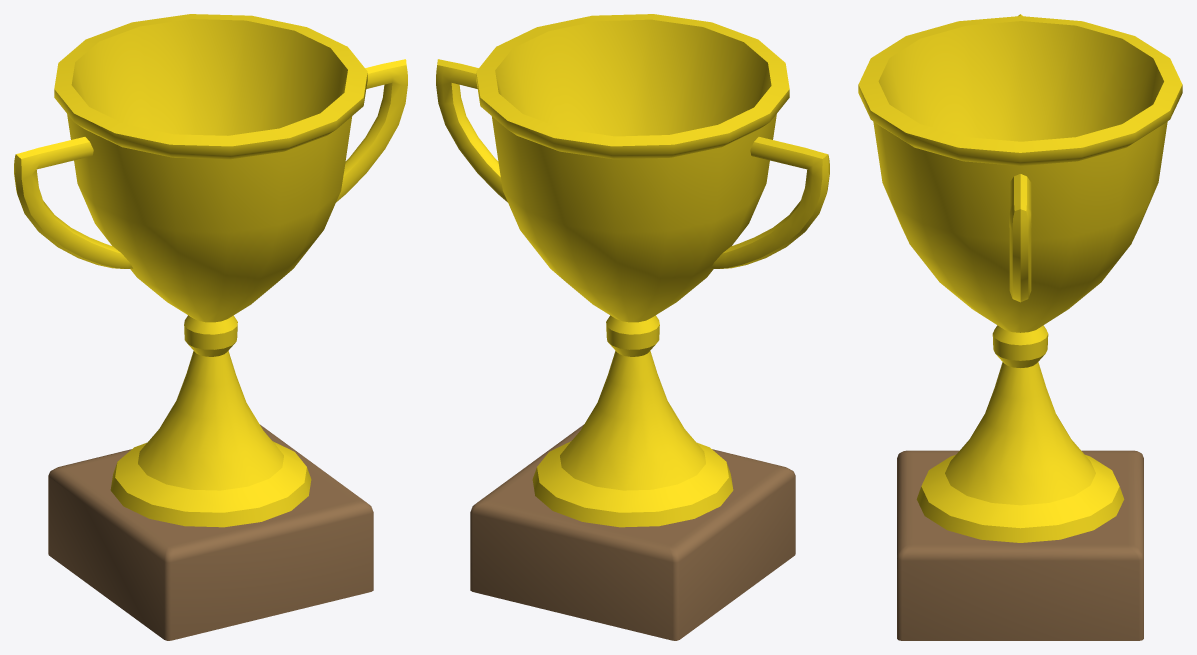
The model's file is TrophyAngy.fbx.
The picture shows the model from 3 angles, left to right: view 1: azimuth 30°, elevation 25°; view 2: azimuth 150°, elevation 25°; view 3: azimuth 270°, elevation 25°; orthographic projection. The views are drawn at different scales.
Visible parts, largest first — view 1: Trophy; view 2: Trophy; view 3: Trophy.
Boxes of the visible parts, left/top/right/bottom form: Trophy: left=14, top=14, right=407, bottom=640; Trophy: left=436, top=14, right=829, bottom=640; Trophy: left=858, top=14, right=1182, bottom=640.
Bounding box in the file's own units: 375 × 453 × 262.
